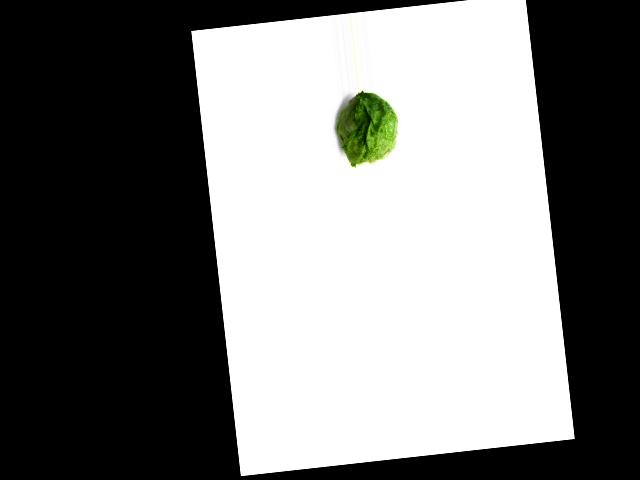lettuce: (329, 88, 406, 167)
